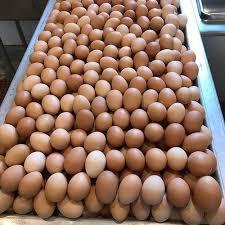egg: (196, 178, 225, 213), (143, 174, 168, 210), (167, 176, 191, 210), (16, 172, 44, 200), (6, 142, 30, 172), (84, 147, 110, 174), (188, 149, 216, 173), (44, 173, 66, 202), (123, 172, 141, 206), (71, 170, 90, 202), (100, 170, 116, 207), (4, 105, 30, 126), (83, 130, 111, 149), (167, 148, 188, 172), (124, 149, 147, 170), (64, 148, 88, 168), (166, 123, 186, 147), (120, 126, 144, 145), (124, 88, 143, 112), (48, 76, 68, 98), (48, 128, 72, 146), (73, 95, 93, 116), (147, 101, 169, 119), (150, 146, 166, 170), (44, 96, 59, 119), (107, 90, 124, 110), (20, 76, 41, 92), (88, 12, 107, 29), (157, 46, 174, 64), (165, 70, 181, 89), (86, 48, 104, 64), (118, 54, 134, 72), (138, 65, 156, 81), (72, 58, 88, 75), (106, 28, 120, 47), (94, 112, 110, 128), (46, 53, 61, 70), (98, 78, 112, 96), (133, 35, 147, 53), (110, 5, 126, 20), (161, 23, 175, 39), (64, 23, 84, 34), (40, 30, 54, 39)
